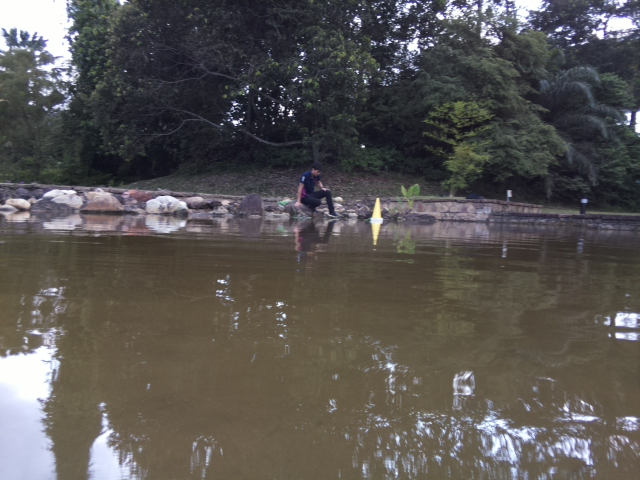checkpoint: (367, 197, 385, 224)
